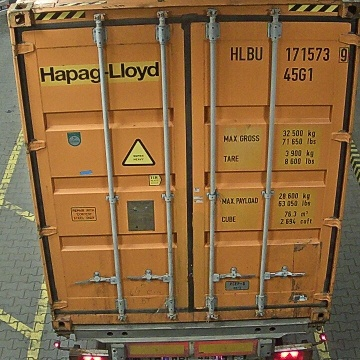serial_id: (229, 47, 347, 61)
